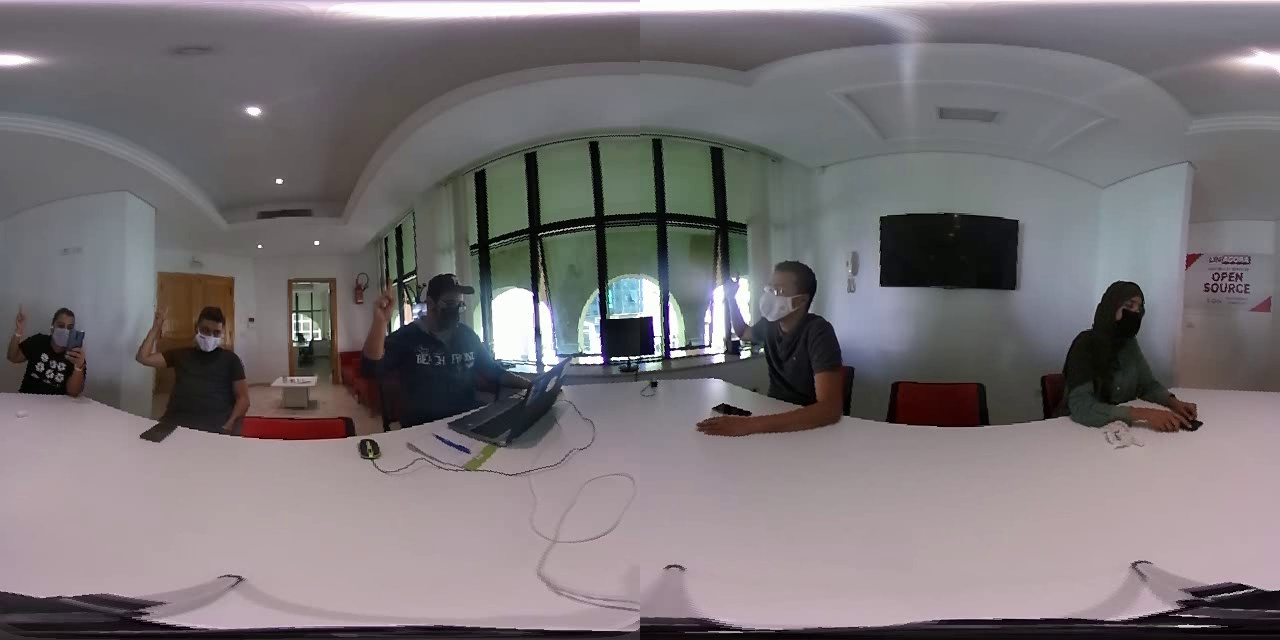person: (705, 242, 845, 435), (1053, 263, 1201, 442), (352, 257, 501, 432), (133, 284, 259, 440), (1, 282, 100, 406)
speaking: (359, 270, 405, 383), (713, 259, 753, 352), (138, 295, 173, 372), (3, 297, 32, 372)
